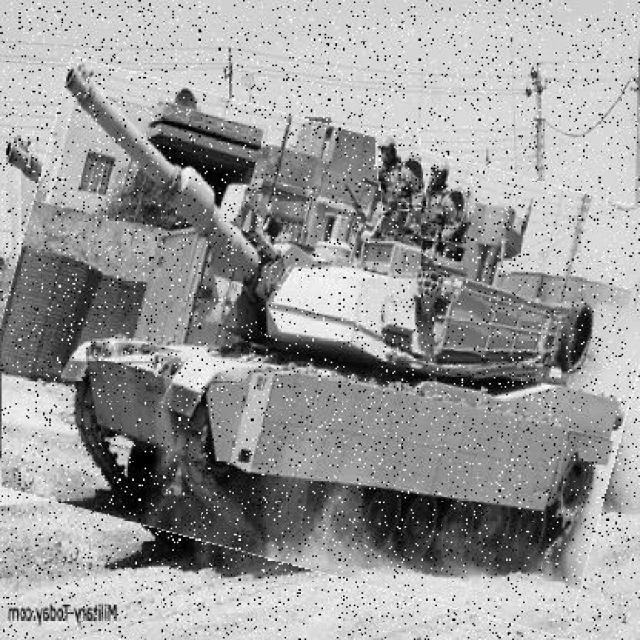Person: (378, 131, 426, 214)
Tank: (3, 95, 640, 604)
